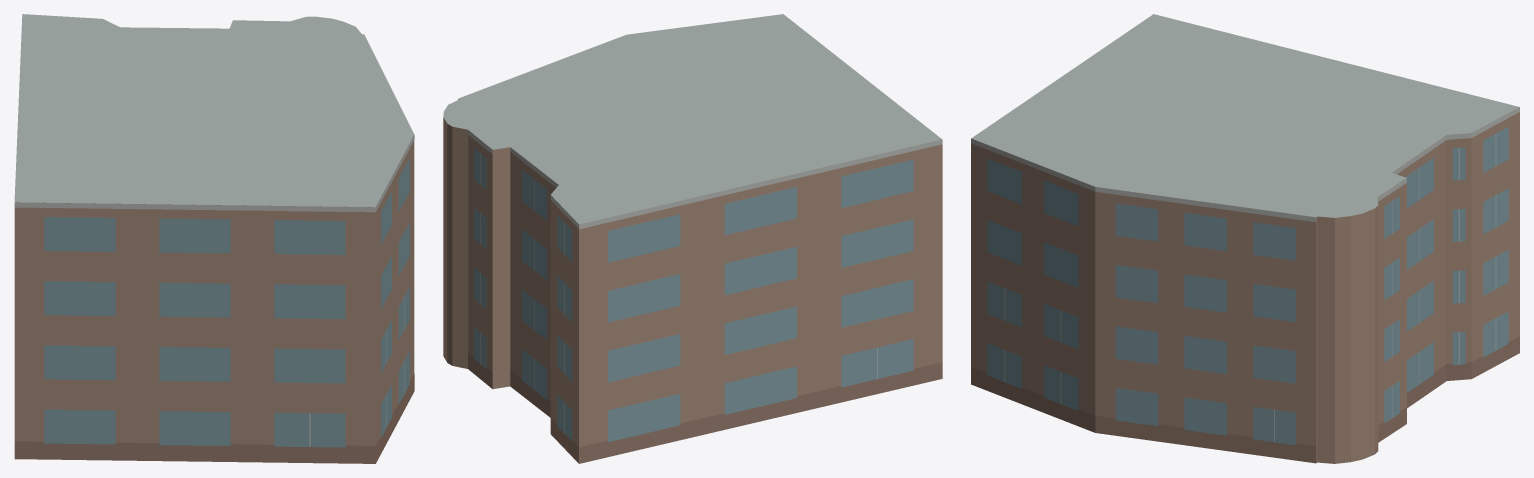
Rendered from survey-upis-32647053.glb.
3 views of the same model, side by side, from view 1: azimuth 30°, elevation 25°; view 2: azimuth 150°, elevation 25°; view 3: azimuth 270°, elevation 25° (orthographic). The views are drawn at different scales.
Visible parts, largest first — view 1: survey-upis-32647053.tmp; view 2: survey-upis-32647053.tmp; view 3: survey-upis-32647053.tmp.
Part boxes in pixels (x1,y1,x2,y2): survey-upis-32647053.tmp: [14, 14, 414, 463]; survey-upis-32647053.tmp: [443, 14, 942, 463]; survey-upis-32647053.tmp: [971, 14, 1519, 463].
Size of the model in its own units: 21.68 by 12.2 by 24.67.
